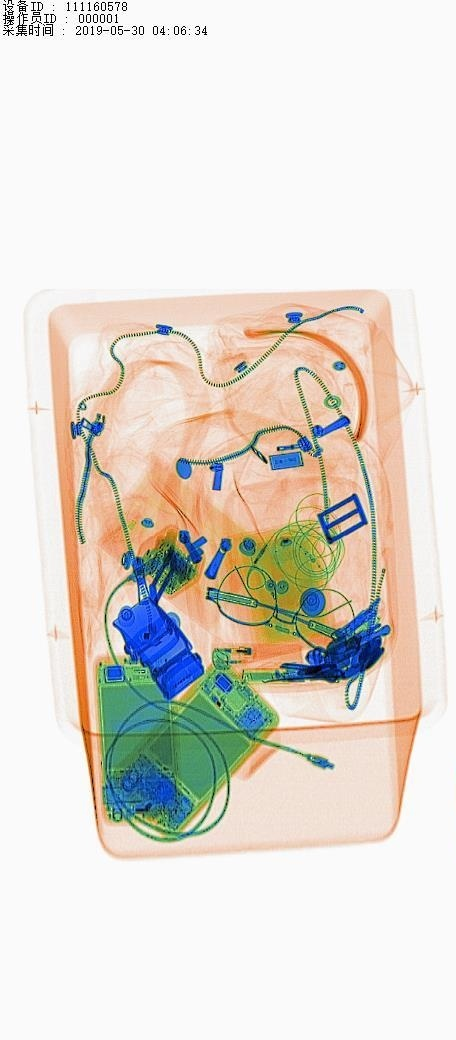NonmetallicFire: (200, 635, 315, 684)
